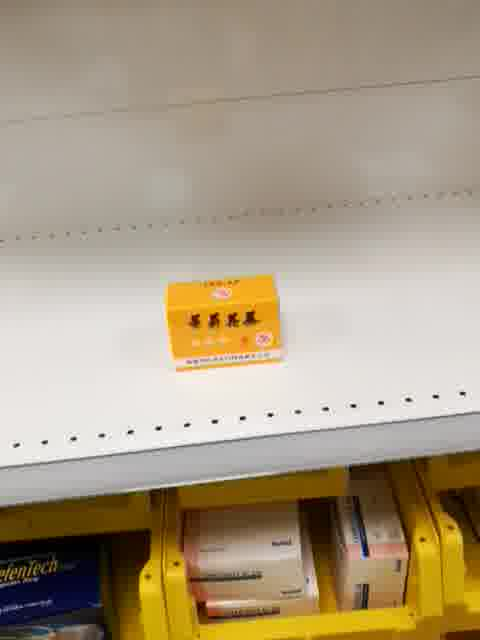jasminetea: (162, 274, 284, 373)
